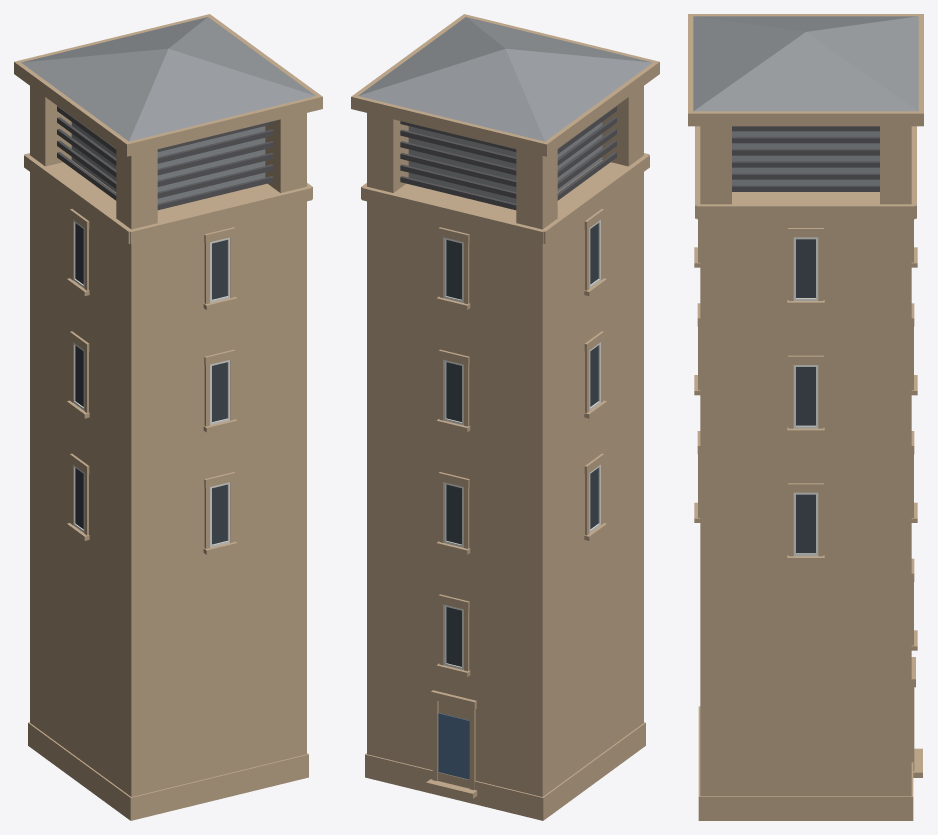
Rendered from fire_tower.glb.
3 views of the same model, side by side, from view 1: azimuth 30°, elevation 25°; view 2: azimuth 150°, elevation 25°; view 3: azimuth 270°, elevation 25° (orthographic). The views are drawn at different scales.
Visible parts, largest first — view 1: fire_tower; view 2: fire_tower; view 3: fire_tower.
Boxes of the visible parts, bbox=[...] form: fire_tower: bbox=[14, 14, 322, 820]; fire_tower: bbox=[351, 14, 659, 820]; fire_tower: bbox=[688, 14, 923, 820].
Size of the model in its own units: 6.7 by 23.3 by 6.7.
